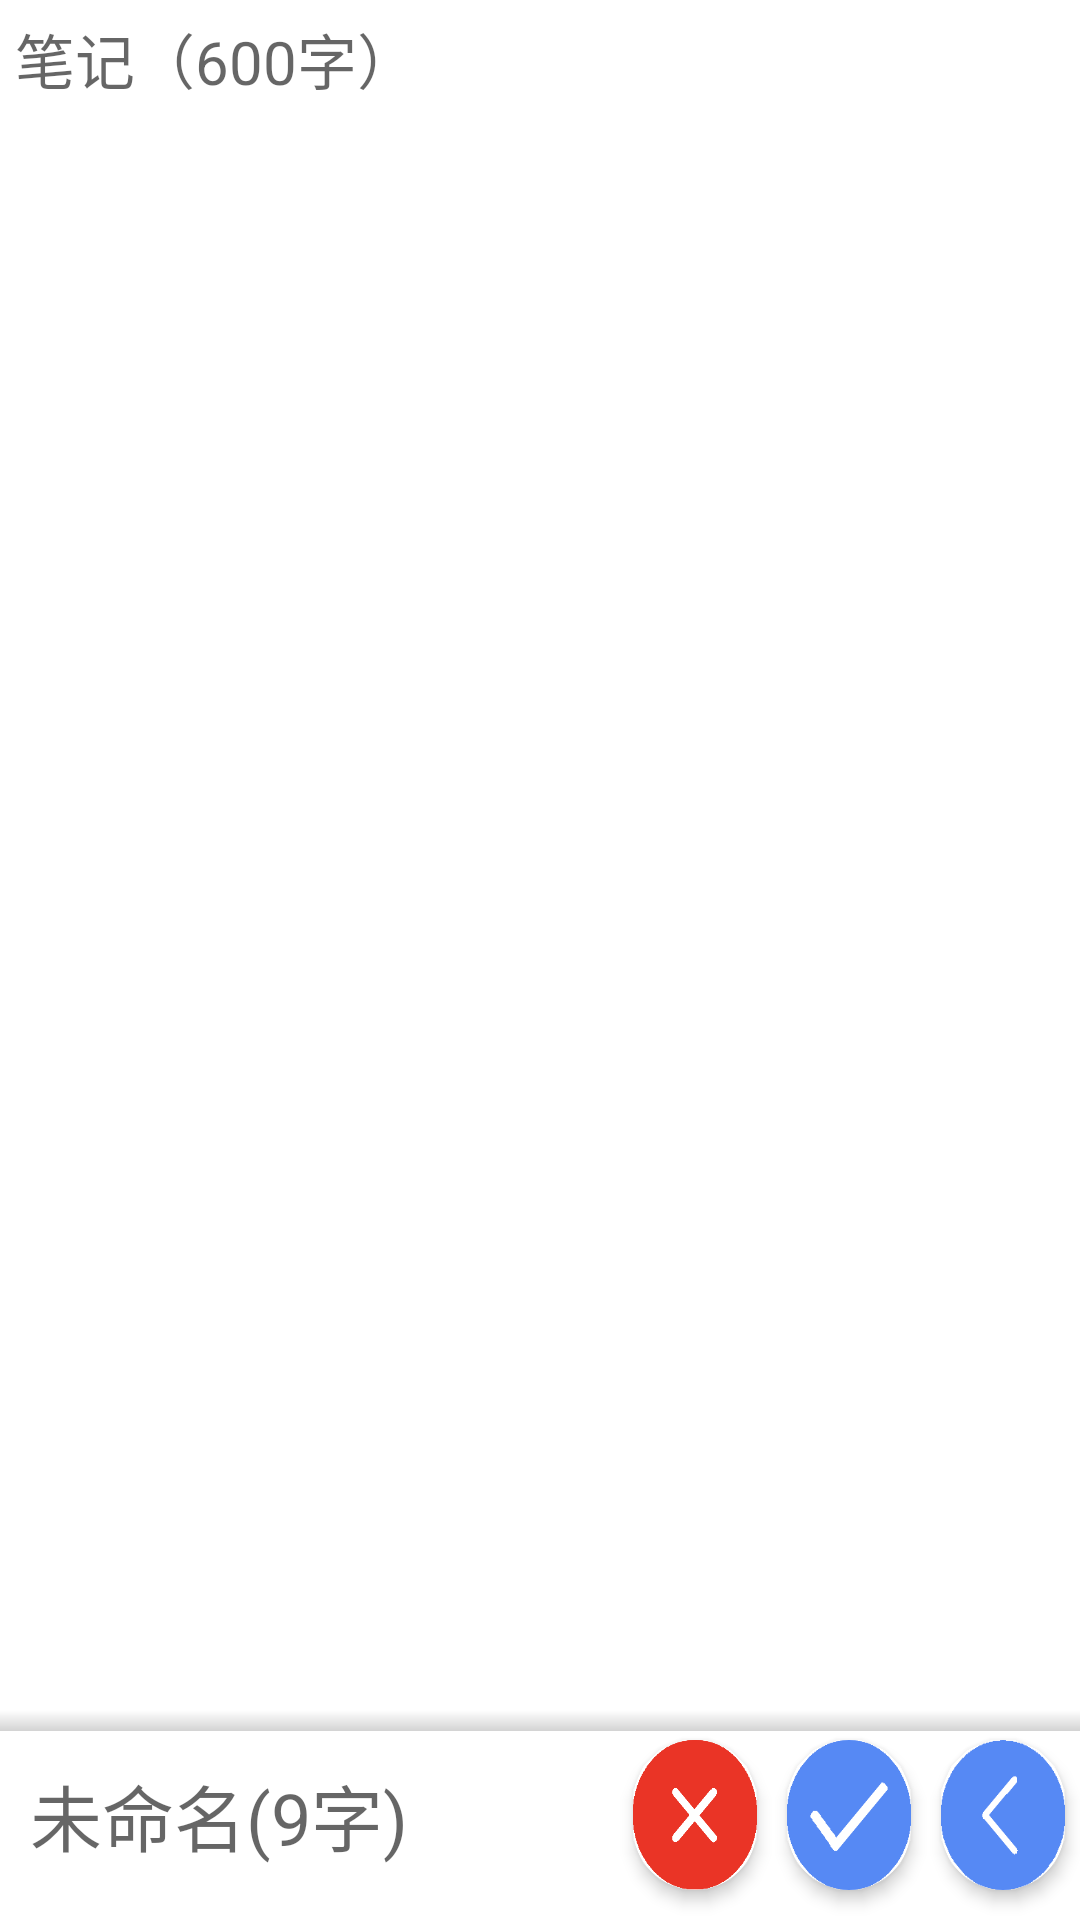

Icons on this 1080*1920 Android screen, each with the point to tap as point (x, y):
back: point (1003, 1815)
delete: point (695, 1815)
